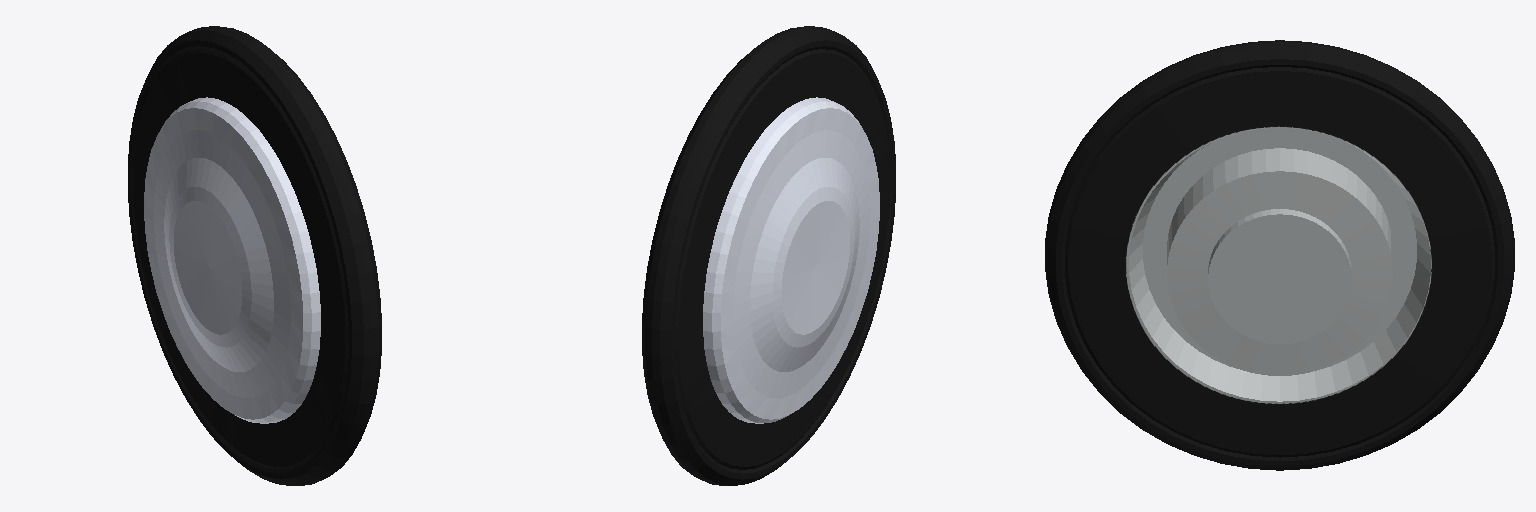
3 views of the same model, side by side, from view 1: azimuth 30°, elevation 25°; view 2: azimuth 150°, elevation 25°; view 3: azimuth 270°, elevation 25° (orthographic).
Visible parts, largest first — view 1: wheel; view 2: wheel; view 3: wheel.
Part boxes in pixels (x1,y1,x2,y2): wheel: (128,26,381,485); wheel: (642,26,895,485); wheel: (1045,40,1514,470).
Bounding box in the file's own units: 0.0716 × 0.3048 × 0.3041.
Materials: 1 (1 with a texture image).